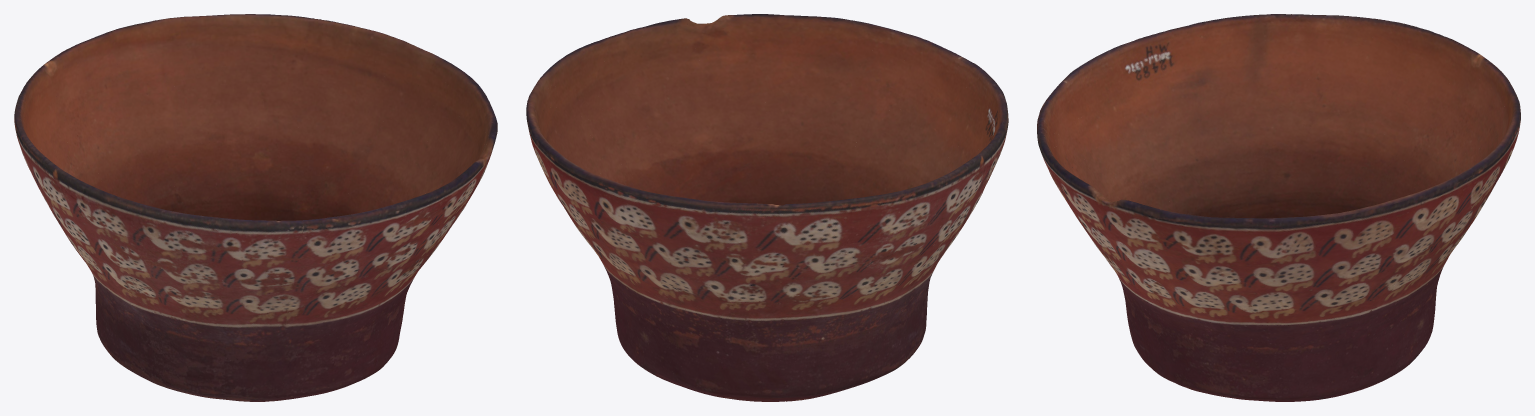
Rendered from obj_puco_policromo_nazca_7efbe7.glb.
The picture shows the model from 3 angles, left to right: view 1: azimuth 30°, elevation 25°; view 2: azimuth 150°, elevation 25°; view 3: azimuth 270°, elevation 25°; orthographic projection. The views are drawn at different scales.
Visible parts, largest first — view 1: obj_puco_policromo_nazca_7efbe7; view 2: obj_puco_policromo_nazca_7efbe7; view 3: obj_puco_policromo_nazca_7efbe7.
Boxes of the visible parts, x1=… form: obj_puco_policromo_nazca_7efbe7: x1=14, y1=14, x2=497, y2=401; obj_puco_policromo_nazca_7efbe7: x1=526, y1=14, x2=1008, y2=401; obj_puco_policromo_nazca_7efbe7: x1=1037, y1=14, x2=1520, y2=401.
Bounding box in the file's own units: 0.1983 × 0.1212 × 0.2.
Materials: 1 (1 with a texture image).
